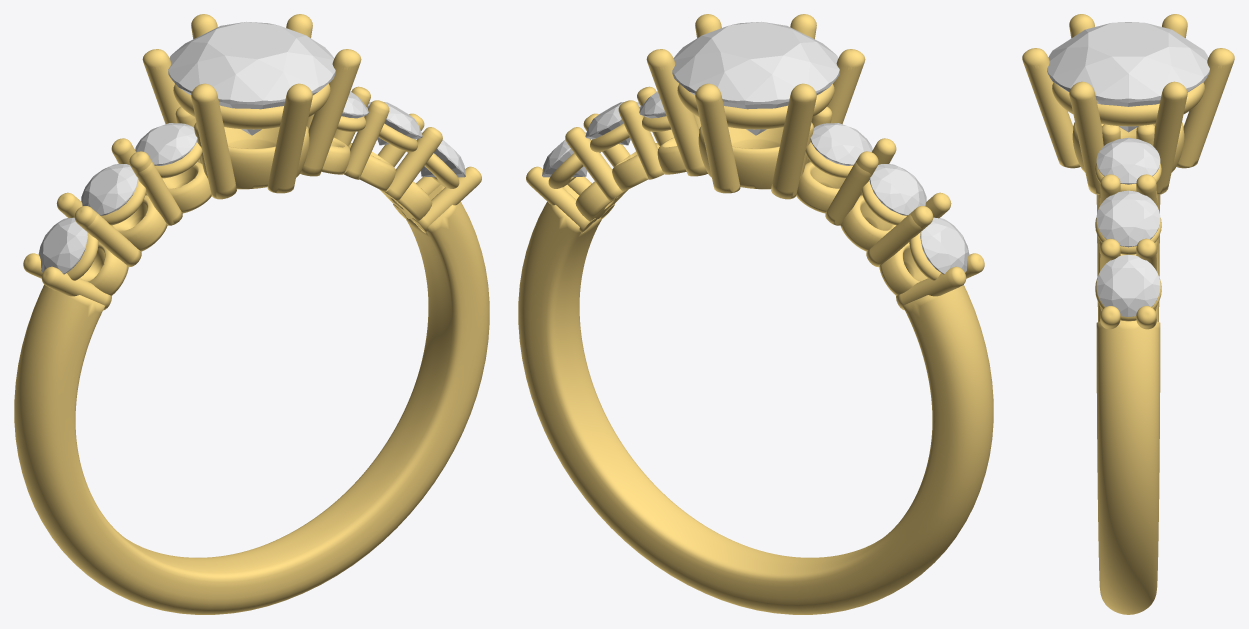
File: diamond-round-yellowgold-6prong-straightband-3stone.glb
3 renders of one model, left to right at view 1: azimuth 30°, elevation 25°; view 2: azimuth 150°, elevation 25°; view 3: azimuth 270°, elevation 25°, orthographic. The views are drawn at different scales.
Visible parts, largest first — view 1: metal, stone, side, side.001, side.002, side.004, side.005; view 2: metal, stone, side, side.001, side.002, side.004, side.005; view 3: metal, stone, side.005, side.004, side.003.
Boxes of the visible parts, x1,y1,x2,y2 form: metal: (14, 14, 489, 614); stone: (168, 21, 335, 135); side: (81, 164, 138, 215); side.001: (38, 217, 87, 274); side.002: (135, 123, 197, 165); side.004: (367, 102, 422, 145); side.005: (416, 132, 465, 177); metal: (518, 14, 993, 614); stone: (672, 21, 839, 135); side: (869, 164, 926, 215); side.001: (920, 217, 969, 274); side.002: (810, 123, 872, 165); side.004: (585, 102, 640, 145); side.005: (542, 132, 591, 177); metal: (1022, 14, 1234, 614); stone: (1047, 22, 1209, 132); side.005: (1096, 255, 1160, 316); side.004: (1096, 190, 1160, 247); side.003: (1096, 137, 1160, 184).
Size of the model in its own units: 20.49 by 23.81 by 8.33.
